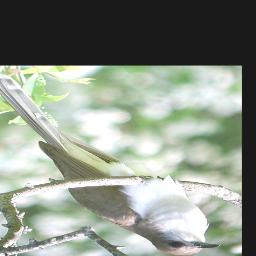Cuckoo: (0, 72, 220, 256)
